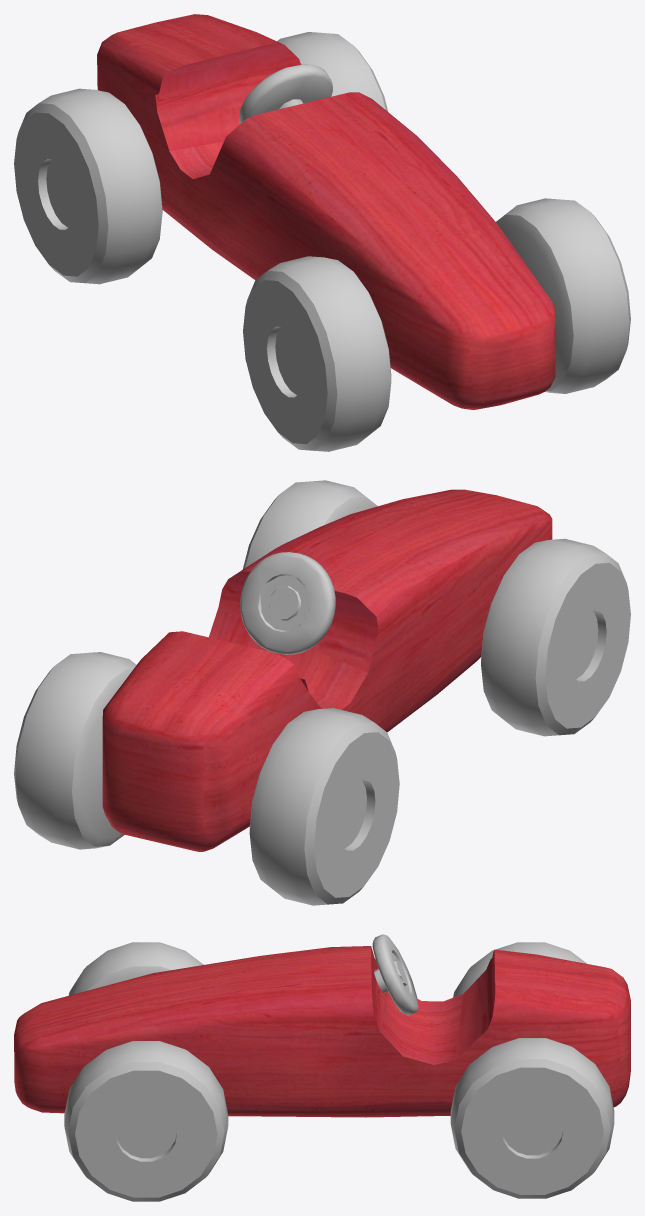
The model's file is Car 3.FBX.
3 renders of one model, top to bottom at view 1: azimuth 30°, elevation 25°; view 2: azimuth 150°, elevation 25°; view 3: azimuth 270°, elevation 25°, orthographic. The views are drawn at different scales.
Visible parts, largest first — view 1: car 3; view 2: car 3; view 3: car 3.
Boxes of the visible parts, x1,y1,x2,y2 form: car 3: (14, 14, 630, 451); car 3: (14, 480, 630, 905); car 3: (14, 934, 630, 1201).
Size of the model in its own units: 7.16 by 5.51 by 15.01.
